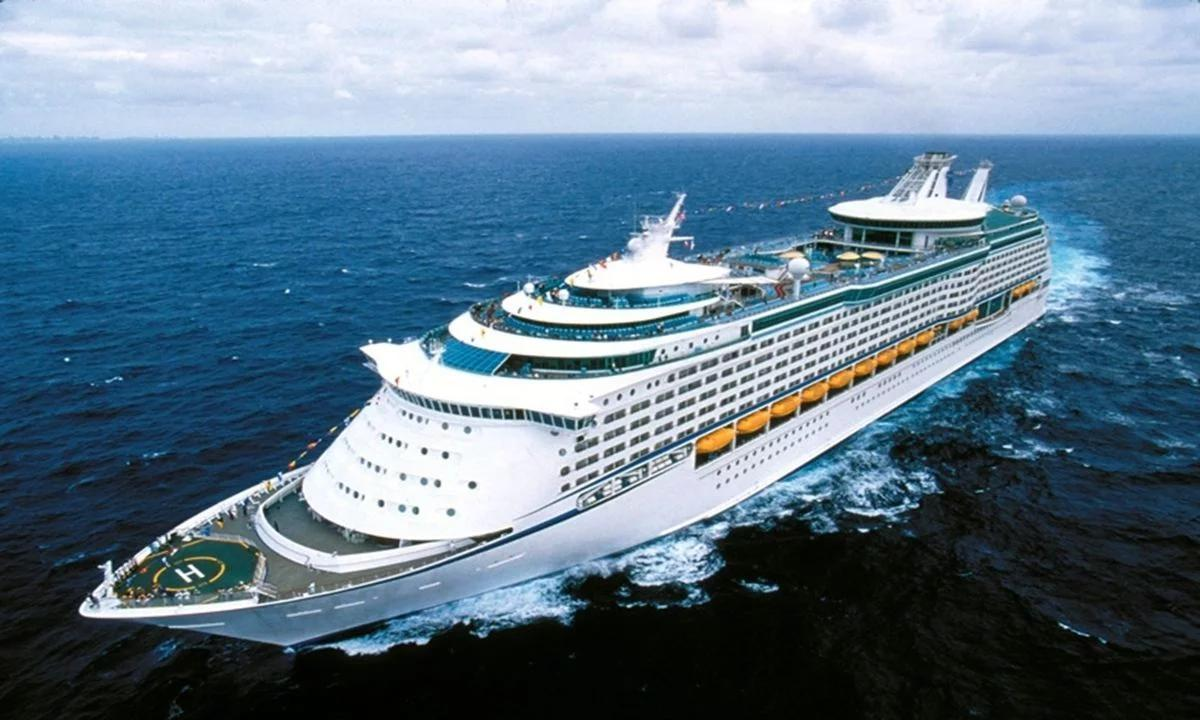youlun: (80, 142, 1053, 644)
